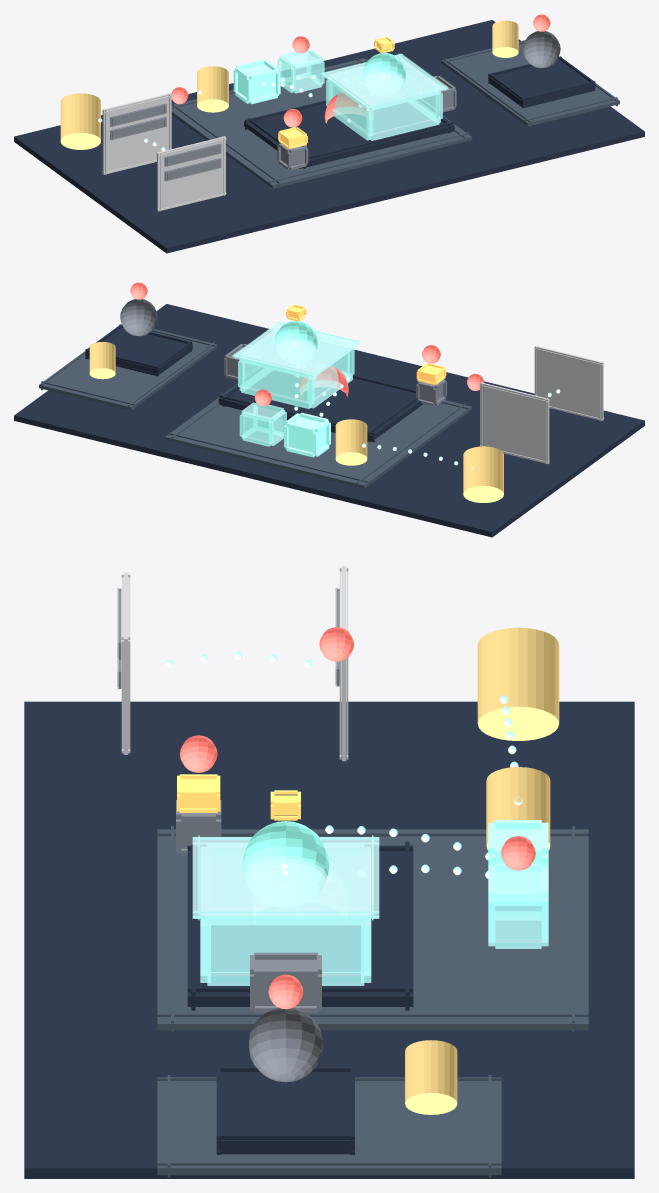
The model's file is cks-sandbox-runtime.glb.
The picture shows the model from 3 angles, top to bottom: view 1: azimuth 30°, elevation 25°; view 2: azimuth 150°, elevation 25°; view 3: azimuth 270°, elevation 25°; orthographic projection. The views are drawn at different scales.
Visible parts, largest first — view 1: sr-floor, node-01, host-kernel, sentry, node-02, runtimeclass, sim-contained, node02-kernel, deploy-card, kube-apiserver, handler-runc, handler-runsc (+12 smaller); view 2: sr-floor, node-01, host-kernel, sentry, node-02, runtimeclass, deploy-card, sim-contained, node02-kernel, kube-apiserver, handler-runc, handler-runsc (+8 smaller); view 3: sr-floor, node-01, node-02, host-kernel, sentry, sim-contained, node02-kernel, kube-apiserver, handler-runsc, sim-pod-node02, payments-pod, containerd-n2 (+12 smaller).
Part boxes in pixels (box(x1,y1,x2,y2)): sr-floor: box(14, 20, 644, 253); node-01: box(171, 58, 472, 188); host-kernel: box(244, 99, 454, 168); sentry: box(326, 59, 442, 140); node-02: box(441, 40, 619, 126); runtimeclass: box(102, 93, 171, 174); sim-contained: box(320, 53, 448, 108); node02-kernel: box(488, 56, 595, 108); deploy-card: box(156, 136, 226, 211); kube-apiserver: box(60, 93, 100, 149); handler-runc: box(233, 59, 280, 104); handler-runsc: box(277, 49, 324, 93); sr-floor: box(14, 304, 644, 537); node-01: box(165, 383, 472, 488); host-kernel: box(218, 368, 422, 442); sentry: box(238, 327, 354, 408); node-02: box(39, 324, 217, 410); runtimeclass: box(479, 382, 549, 463); deploy-card: box(534, 346, 604, 420); sim-contained: box(232, 321, 359, 376); node02-kernel: box(85, 324, 192, 376); kube-apiserver: box(463, 446, 503, 502); handler-runc: box(284, 412, 330, 457); handler-runsc: box(239, 402, 286, 446); sr-floor: box(24, 701, 634, 1178); node-01: box(157, 826, 588, 1032); node-02: box(157, 1075, 501, 1177); host-kernel: box(187, 841, 413, 1010); sentry: box(200, 844, 371, 985); sim-contained: box(192, 835, 379, 920); node02-kernel: box(216, 1066, 354, 1154); kube-apiserver: box(477, 627, 559, 740); handler-runsc: box(488, 863, 548, 948); sim-pod-node02: box(249, 1007, 322, 1082); payments-pod: box(242, 821, 329, 892); containerd-n2: box(405, 1040, 457, 1114).
Size of what is drawn, in the model's own units: 7.73 by 1.46 by 4.2.
